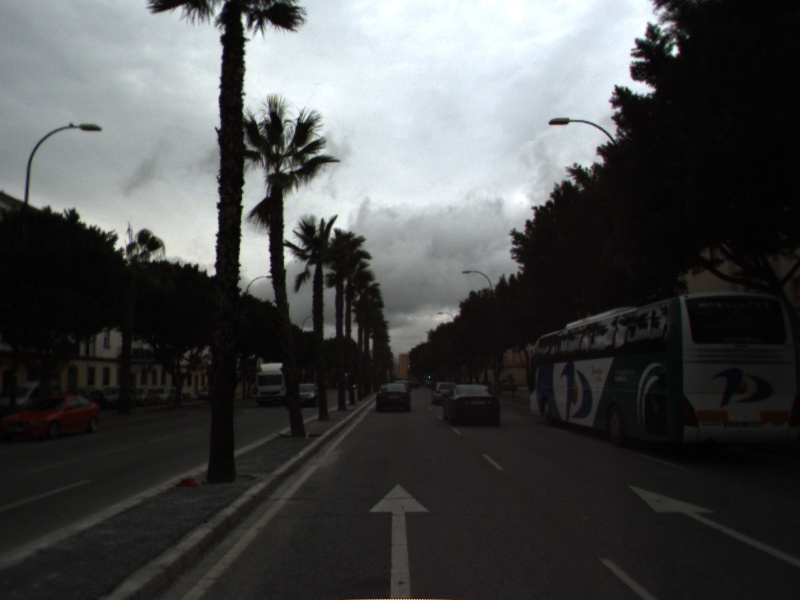STRAIGHT: (624, 481, 800, 568), (366, 481, 433, 600)
